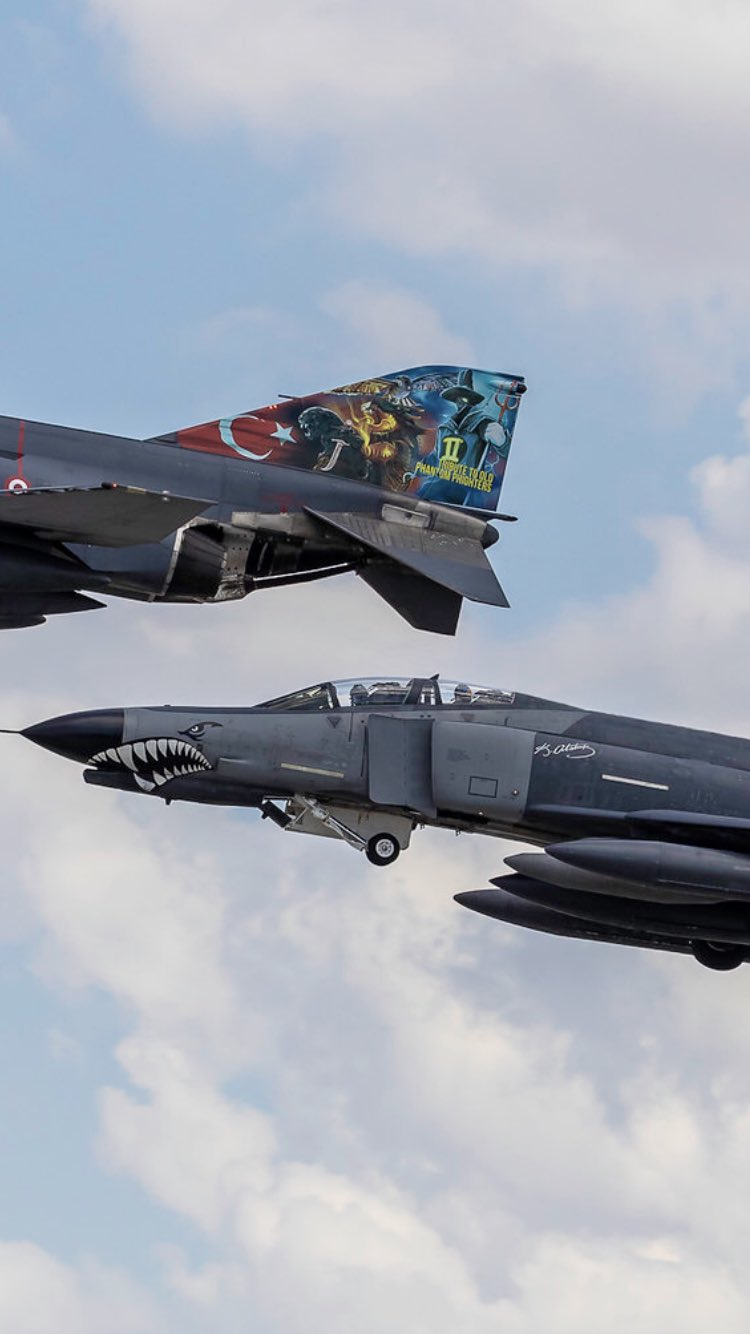F4: (1, 673, 750, 972), (1, 364, 528, 637)
